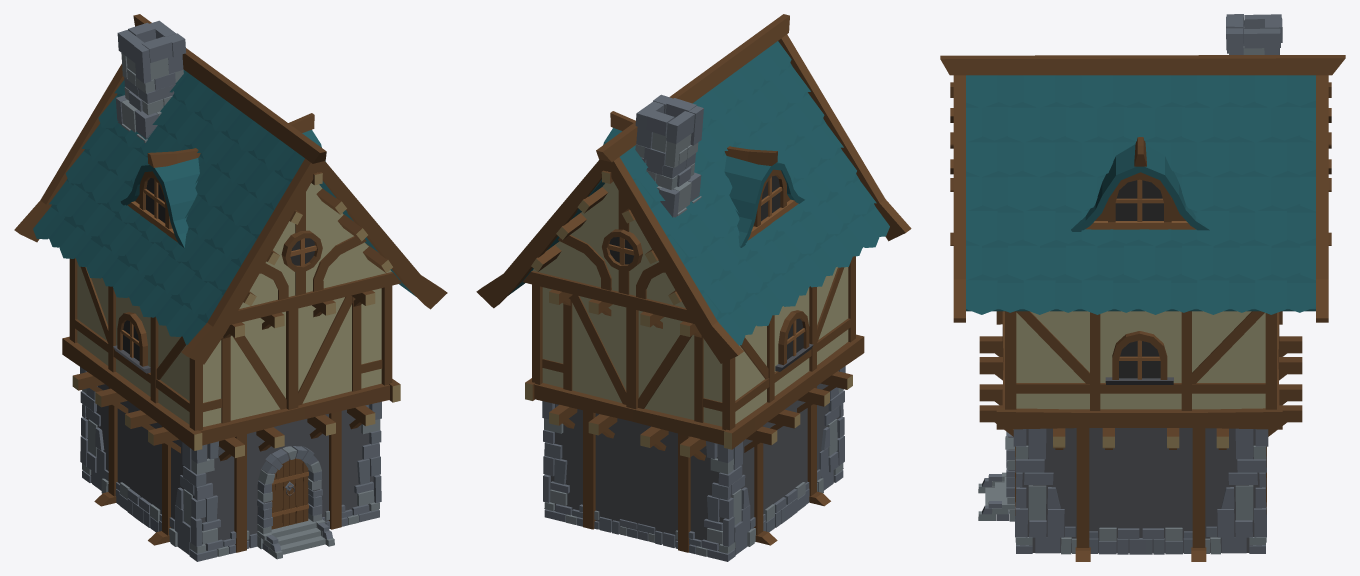
Rendered from House_1_Baked.obj.
3 renders of one model, left to right at view 1: azimuth 30°, elevation 25°; view 2: azimuth 150°, elevation 25°; view 3: azimuth 270°, elevation 25°, orthographic. The views are drawn at different scales.
Parts seen in each view (by area): view 1: House_1_Cube.145; view 2: House_1_Cube.145; view 3: House_1_Cube.145.
Boxes of the visible parts, <box> form: House_1_Cube.145: <box>14,14,447,561</box>; House_1_Cube.145: <box>476,14,911,561</box>; House_1_Cube.145: <box>940,14,1345,561</box>.
Bounding box in the file's own units: 2.14 × 3.39 × 2.66.
1 material, 1 textured.
